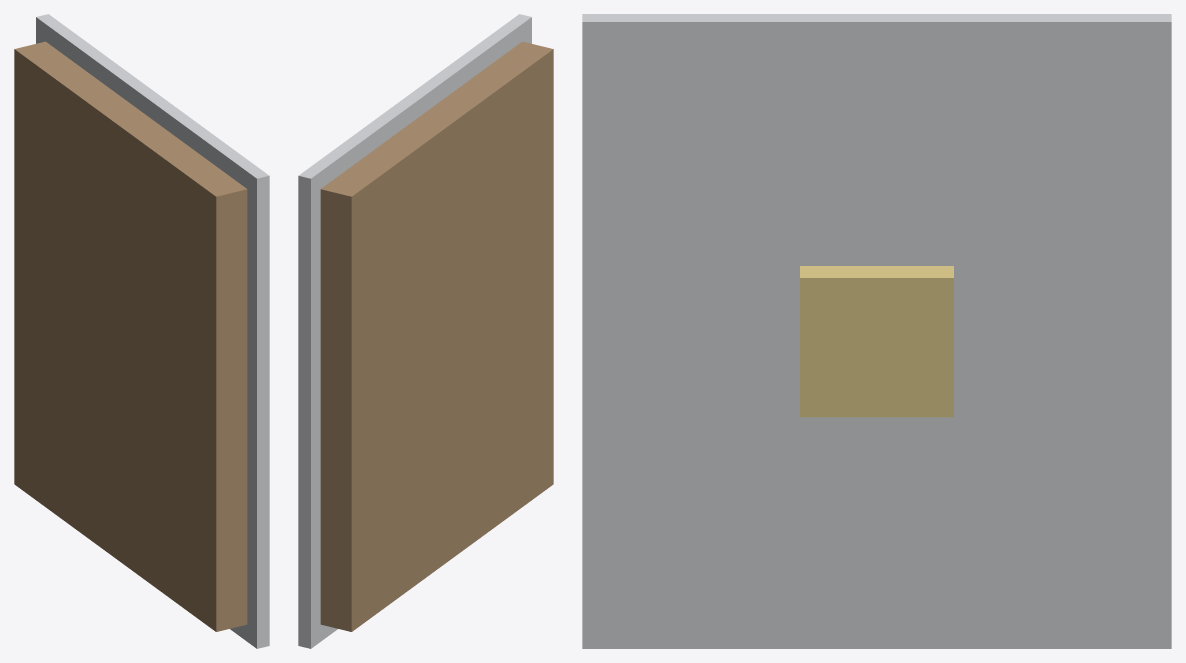
File: shield.glb
3 renders of one model, left to right at view 1: azimuth 30°, elevation 25°; view 2: azimuth 150°, elevation 25°; view 3: azimuth 270°, elevation 25°, orthographic. The views are drawn at different scales.
Visible parts, largest first — view 1: Shield; view 2: Shield; view 3: Shield.
Part boxes in pixels (left/top/right/bottom): Shield: left=14, top=14, right=269, bottom=648; Shield: left=298, top=14, right=553, bottom=648; Shield: left=582, top=14, right=1171, bottom=648.
Bounding box in the file's own units: 0.075 × 0.54 × 0.46.
